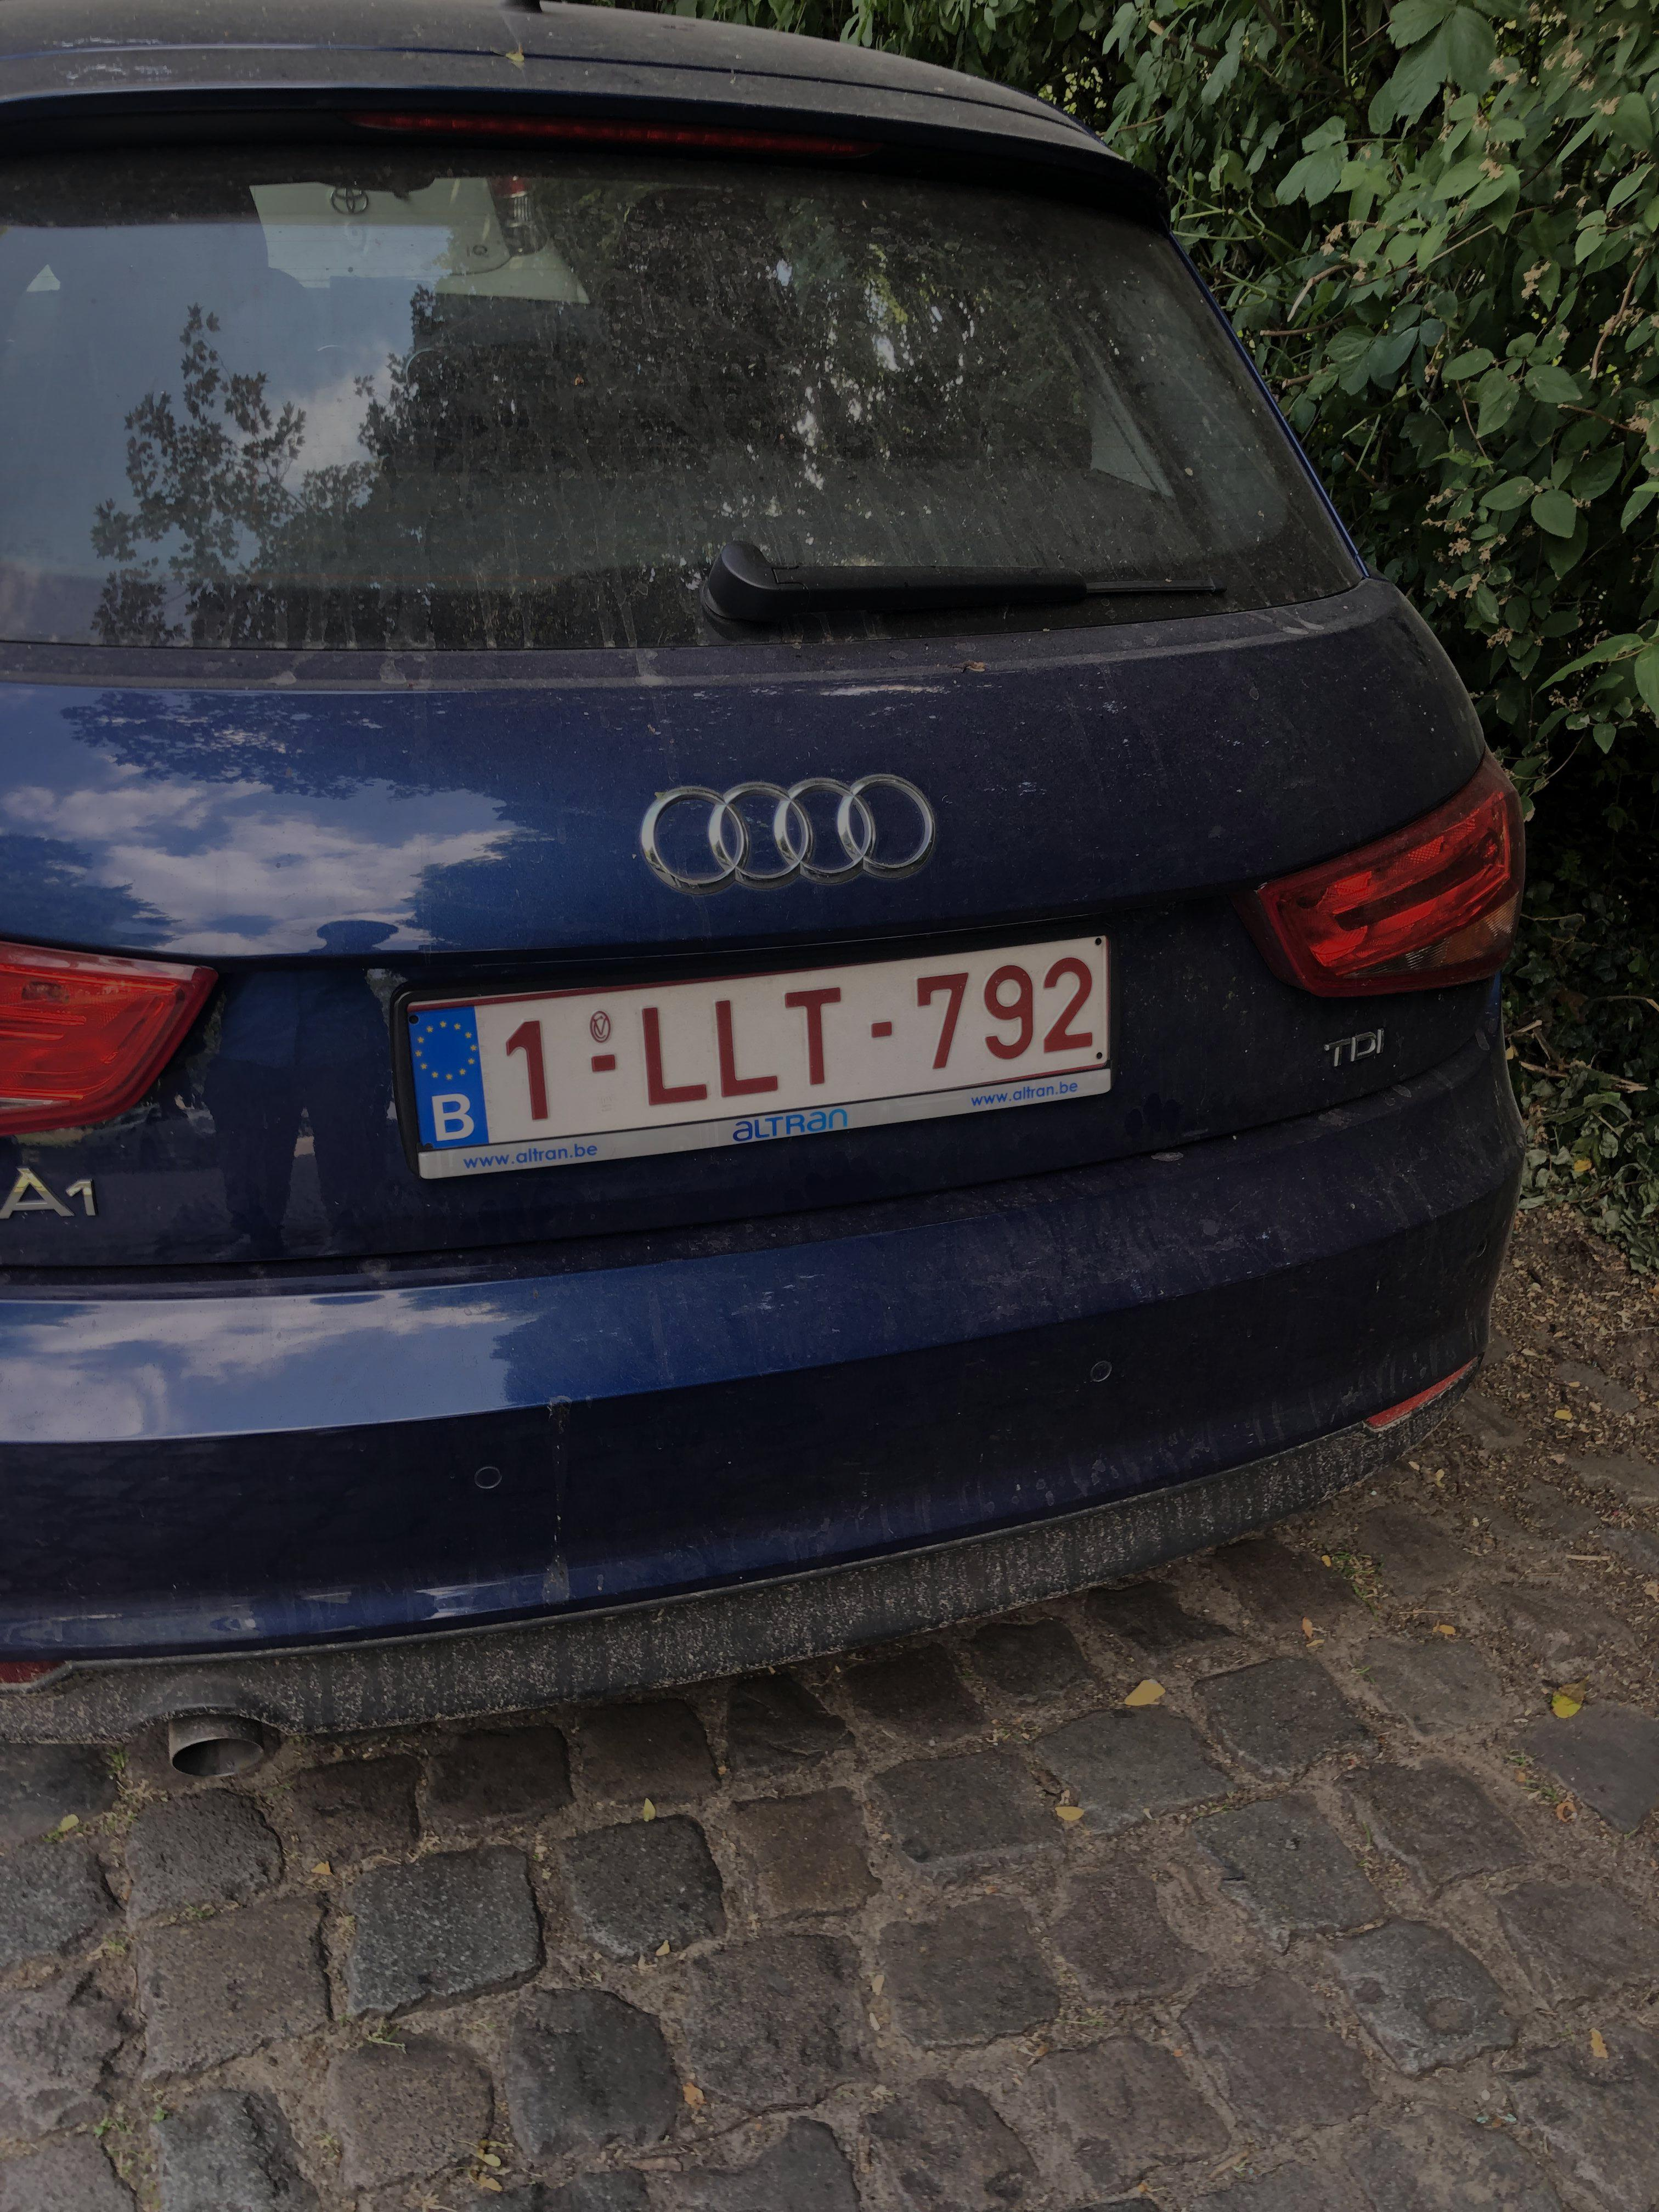plate: (369, 910, 1141, 1160)
